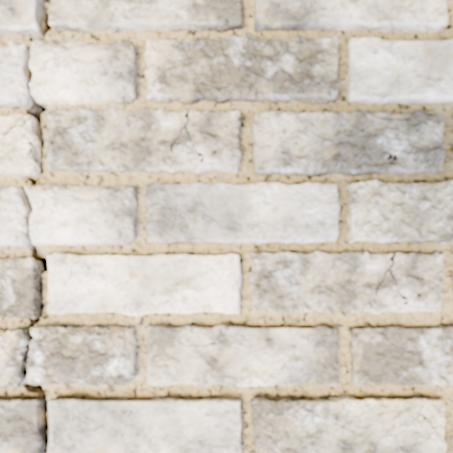brick: (145, 34, 338, 104), (45, 109, 241, 174), (252, 110, 443, 176), (250, 252, 443, 313), (146, 183, 338, 244), (147, 325, 337, 386), (48, 254, 241, 314), (250, 396, 445, 452), (49, 398, 240, 452), (346, 37, 452, 103), (348, 180, 452, 242), (50, 0, 240, 32), (349, 326, 452, 385), (255, 0, 447, 31), (0, 258, 40, 317), (0, 399, 44, 452), (0, 119, 39, 175), (0, 0, 41, 34), (421, 398, 444, 424), (0, 115, 27, 131)
broken_brick: (31, 38, 137, 105), (27, 183, 138, 246), (25, 325, 137, 386), (0, 39, 30, 109), (0, 186, 30, 248), (0, 328, 24, 389)
crack: (0, 0, 51, 452), (167, 108, 204, 162), (373, 252, 408, 305), (410, 399, 445, 440), (364, 110, 410, 121)
